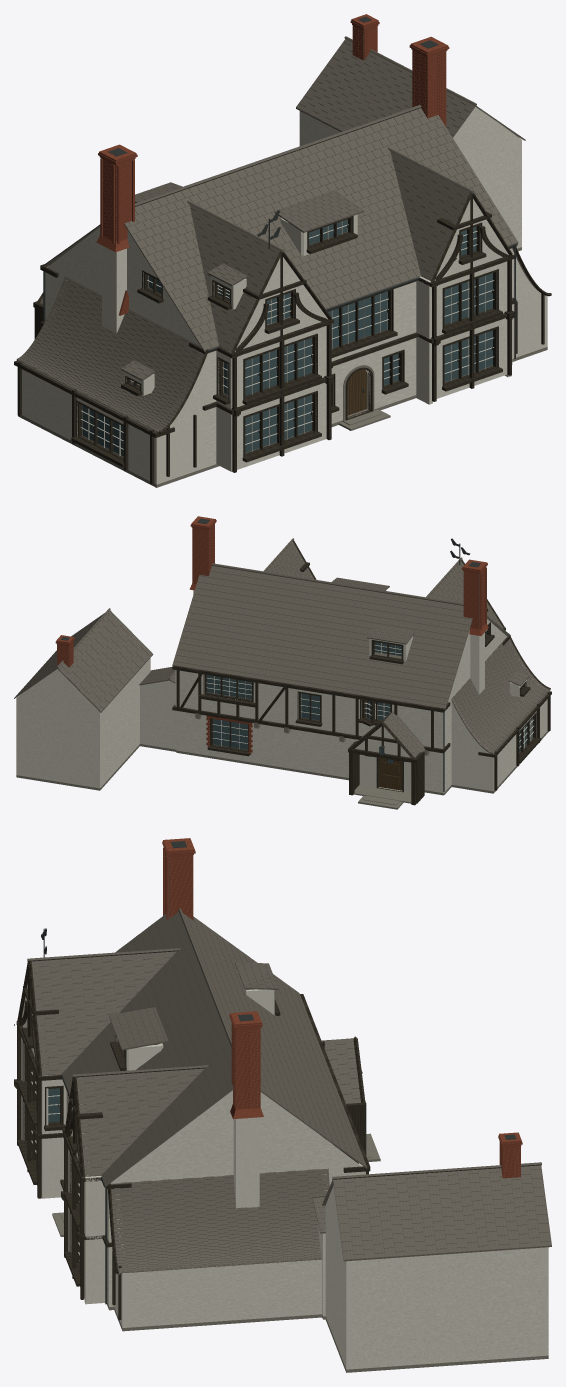
File: changning-hudec-residence-web.glb
3 views of the same model, one above another, from view 1: azimuth 30°, elevation 25°; view 2: azimuth 150°, elevation 25°; view 3: azimuth 270°, elevation 25° (orthographic). The views are drawn at different scales.
Bounding box in the file's own units: 29.58 × 14.08 × 24.15.
11 materials, 11 textured.
